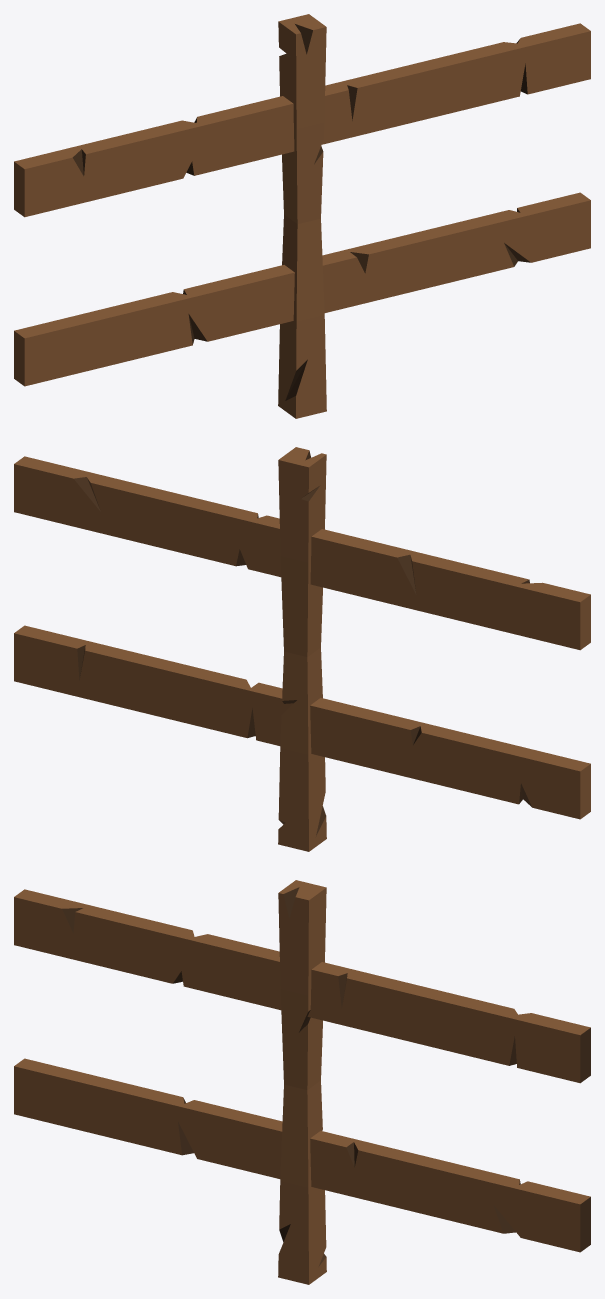
File: Fence_3_Light_Brown.fbx
3 views of the same model, one above another, from view 1: azimuth 30°, elevation 25°; view 2: azimuth 150°, elevation 25°; view 3: azimuth 330°, elevation 25° (orthographic).
Visible parts, largest first — view 1: Fence_3_Light_Brown; view 2: Fence_3_Light_Brown; view 3: Fence_3_Light_Brown.
Boxes of the visible parts, x1=… form: Fence_3_Light_Brown: x1=14, y1=14, x2=590, y2=418; Fence_3_Light_Brown: x1=14, y1=447, x2=590, y2=851; Fence_3_Light_Brown: x1=14, y1=880, x2=590, y2=1284.
Bounding box in the file's own units: 185 × 120 × 10.09.
